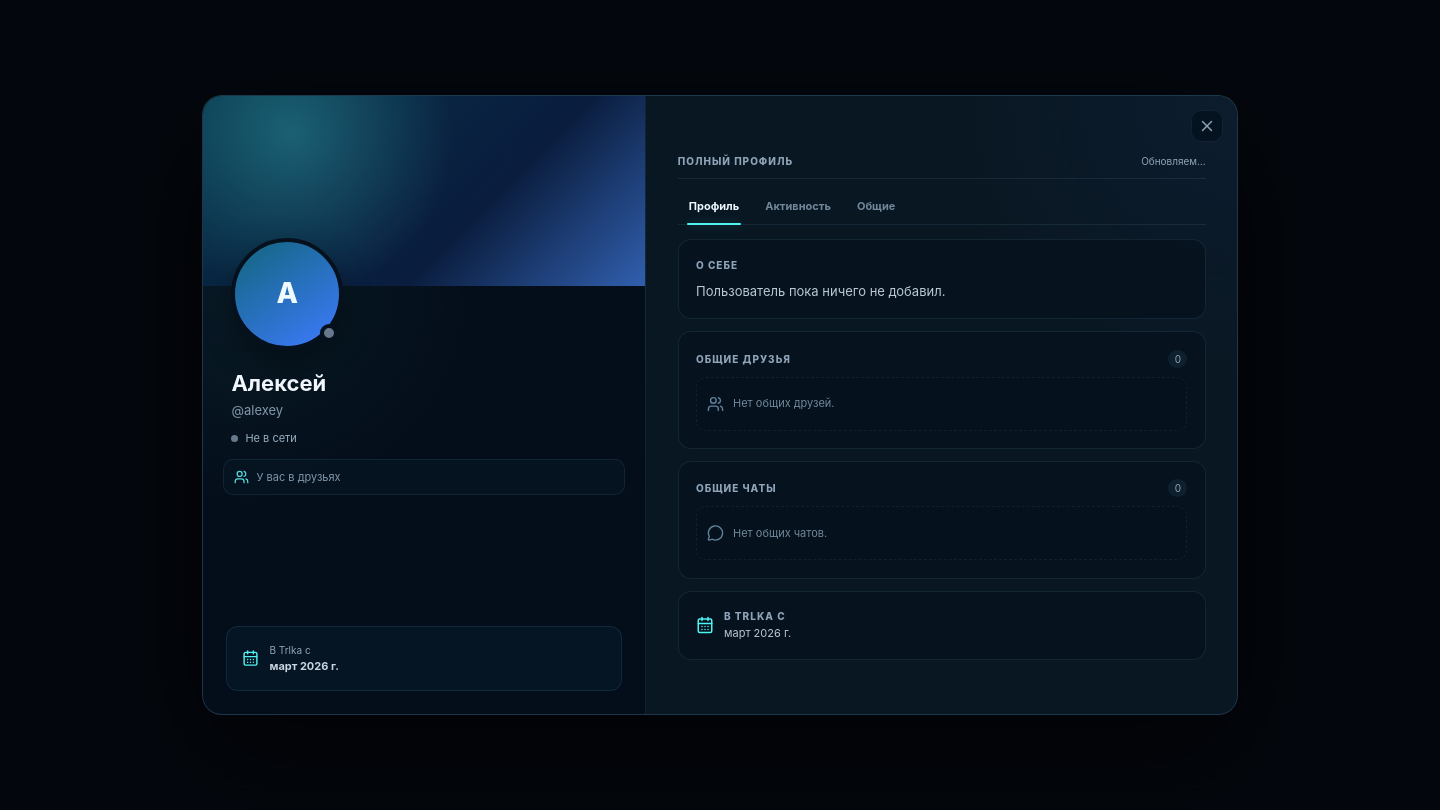
Test: UserProfileDialog › shows compact empty states without inventing activity
This screenshot has width=1440, height=810.
Check: the text "Пользователь пока ничего не добавил." is shown, box [696, 283, 945, 299]
Check: the text "Нет общих друзей." is shown, box [733, 396, 834, 411]
Step 1. Click the tab "Активность" → (798, 207), box [754, 190, 842, 224]
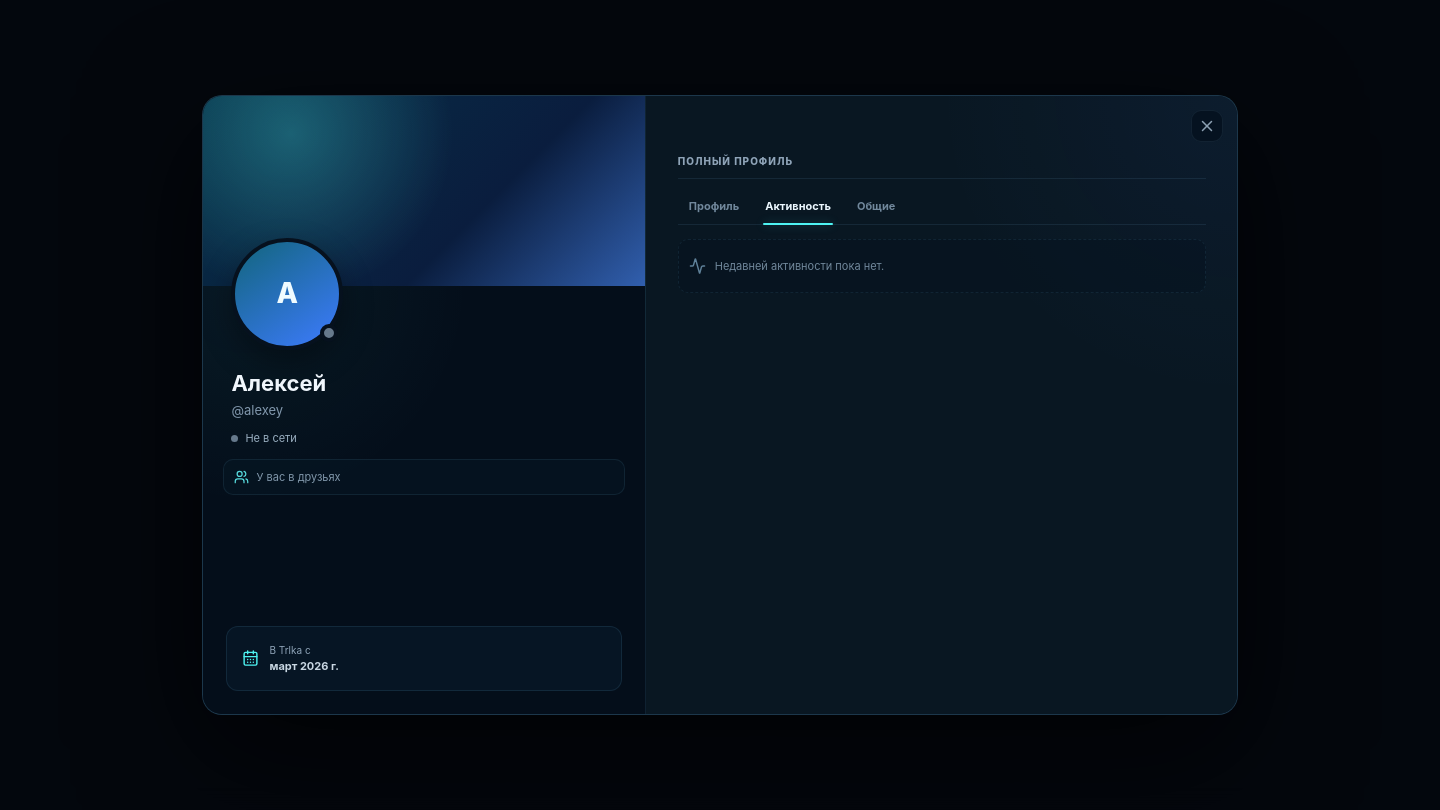
Check: the text "Недавней активности пока нет." is shown, box [715, 259, 884, 274]
